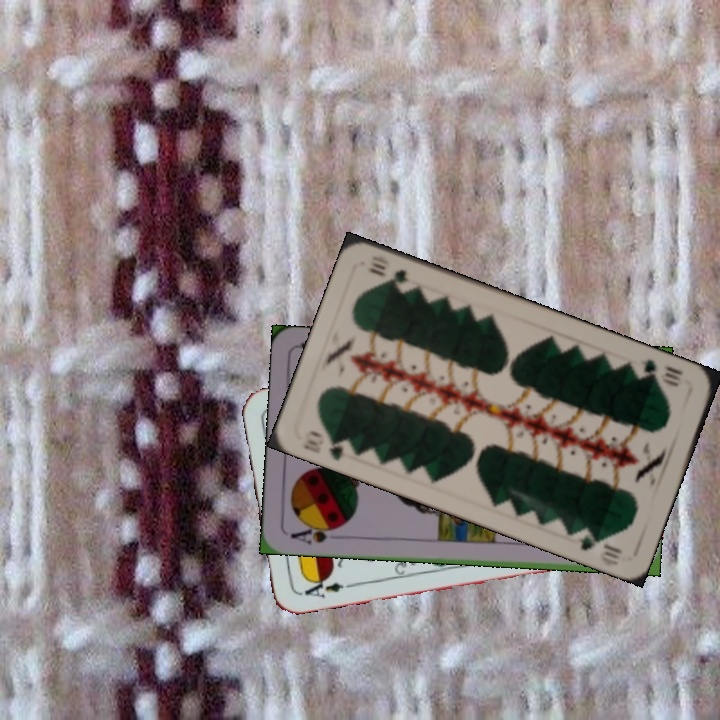EA: (300, 573, 356, 601)
G10: (299, 426, 356, 464), (631, 355, 686, 390)
SA: (287, 520, 345, 547)
